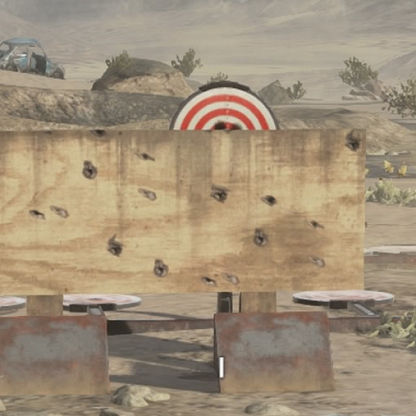target: (169, 83, 281, 130)
